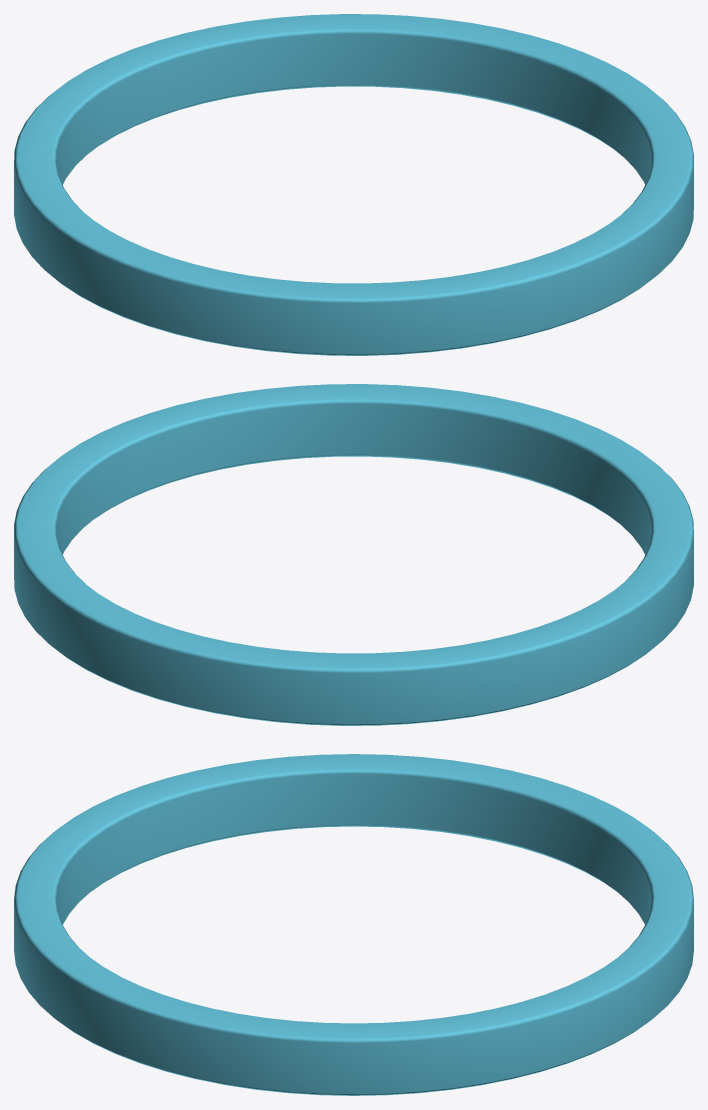
The picture shows the model from 3 angles, top to bottom: view 1: azimuth 30°, elevation 25°; view 2: azimuth 150°, elevation 25°; view 3: azimuth 270°, elevation 25°; orthographic projection.
Parts seen in each view (by area): view 1: seal_body; view 2: seal_body; view 3: seal_body.
Boxes of the visible parts, x1,y1,x2,y2 form: seal_body: [14, 14, 693, 355]; seal_body: [14, 384, 693, 725]; seal_body: [14, 754, 693, 1095].
Size of the model in its own units: 0.1016 by 0.00952 by 0.1016.
